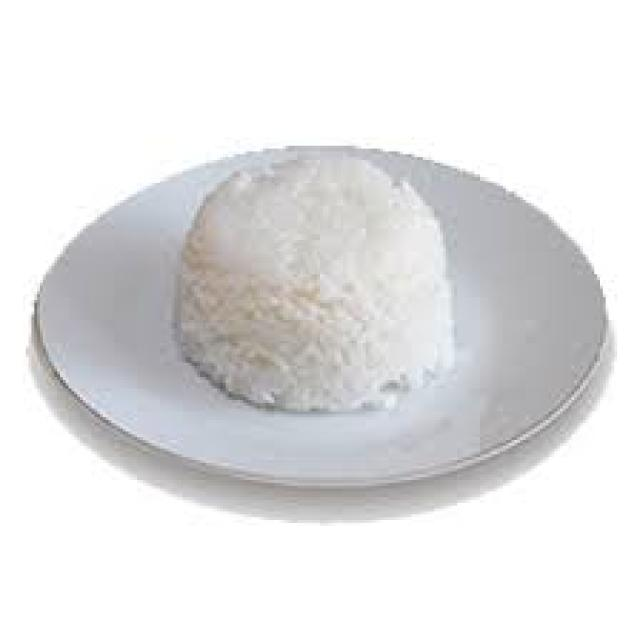nasi: (167, 143, 485, 430)
